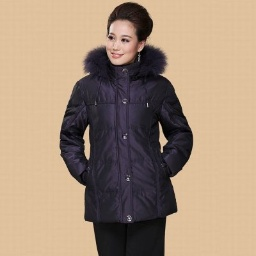face: (104, 1, 155, 68)
